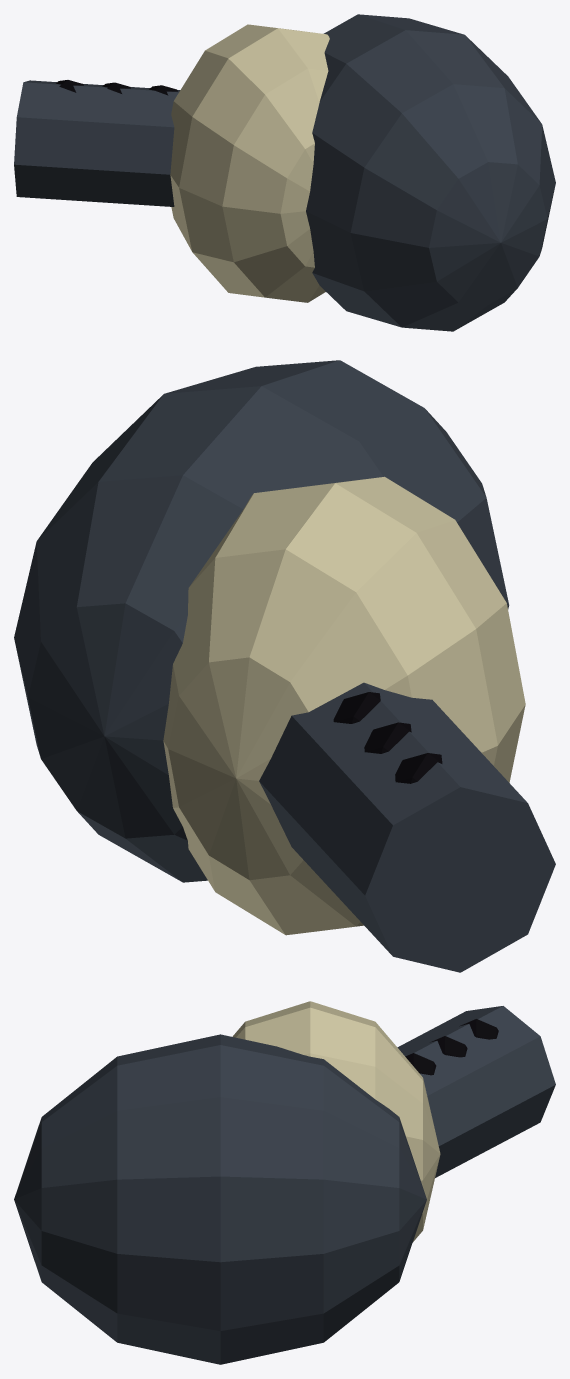
Rendered from Resident1Body.obj.
3 views of the same model, one above another, from view 1: azimuth 30°, elevation 25°; view 2: azimuth 150°, elevation 25°; view 3: azimuth 270°, elevation 25° (orthographic). The views are drawn at different scales.
Visible parts, largest first — view 1: Resident1Body; view 2: Resident1Body; view 3: Resident1Body.
Part boxes in pixels (x1=…): Resident1Body: x1=14, y1=14, x2=555, y2=331; Resident1Body: x1=14, y1=360, x2=555, y2=972; Resident1Body: x1=14, y1=1001, x2=555, y2=1364.
Size of the model in its own units: 112 by 76 by 121.
